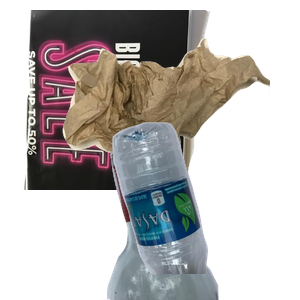glass: (83, 120, 294, 300)
paper: (22, 10, 225, 190)
plastic: (110, 120, 300, 300)
trash: (60, 36, 300, 198)
